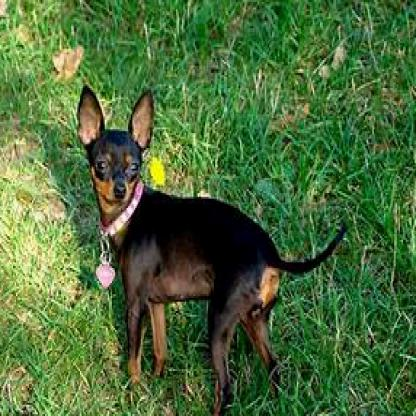dog: (76, 81, 349, 414)
